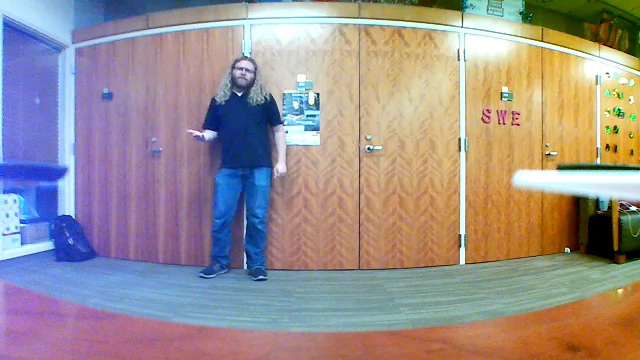land: (181, 124, 213, 142)
